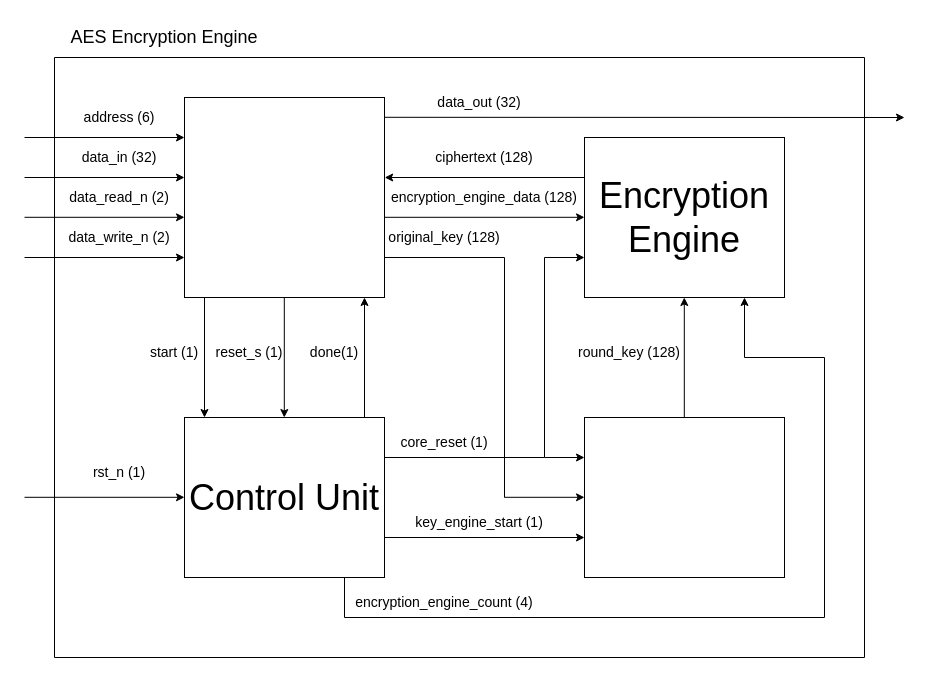
Image size: 930x676. Some labels were removed from this diagram. The shapes that lost their labels are listed below. From the top down, each one's box as (x1, y1, x2, y2) in pixels, then its label:
(184, 96, 384, 298): Memory
(584, 416, 784, 578): Key Engine
